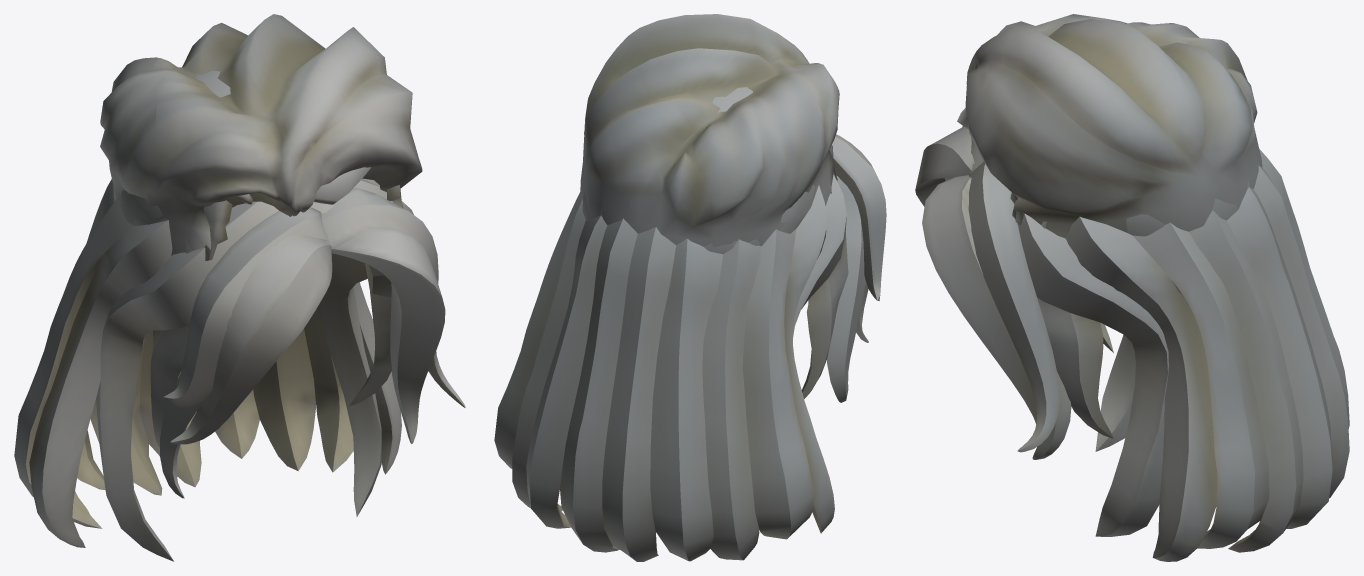
Rendered from npc_hair.glb.
The picture shows the model from 3 angles, left to right: view 1: azimuth 30°, elevation 25°; view 2: azimuth 150°, elevation 25°; view 3: azimuth 270°, elevation 25°; orthographic projection. The views are drawn at different scales.
Parts seen in each view (by area): view 1: Hair_Long, Hair_SimpleParted, Hair_Buzzed; view 2: Hair_Long, Hair_SimpleParted, Hair_Buzzed; view 3: Hair_Long, Hair_SimpleParted, Hair_Buzzed.
Boxes of the visible parts, bbox=[...] form: Hair_Long: bbox=[14, 178, 465, 561]; Hair_SimpleParted: bbox=[100, 14, 422, 254]; Hair_Buzzed: bbox=[113, 70, 403, 260]; Hair_Long: bbox=[494, 134, 886, 561]; Hair_SimpleParted: bbox=[580, 14, 839, 246]; Hair_Buzzed: bbox=[582, 87, 837, 254]; Hair_Long: bbox=[915, 126, 1349, 561]; Hair_SimpleParted: bbox=[965, 14, 1262, 238]; Hair_Buzzed: bbox=[957, 107, 1249, 239].
Size of the model in its own units: 0.2447 by 0.3389 by 0.2705.
Materials: 2 (2 with a texture image).
